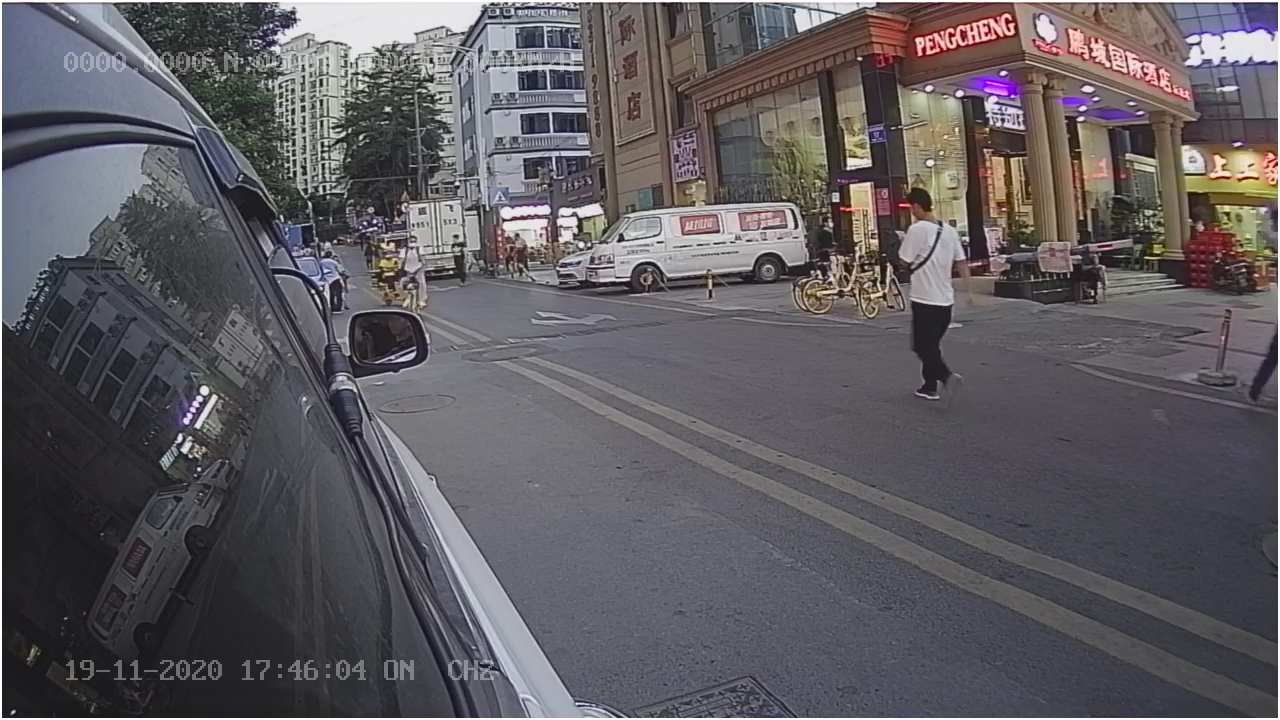person: (886, 182, 984, 415)
